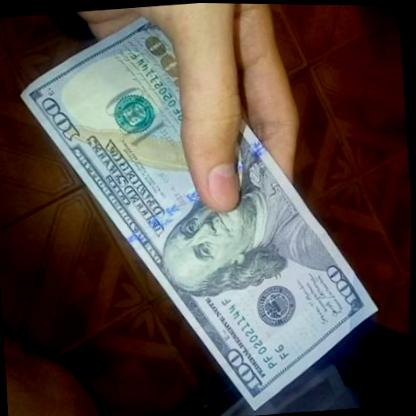one_hundred-front: (9, 0, 383, 416)
